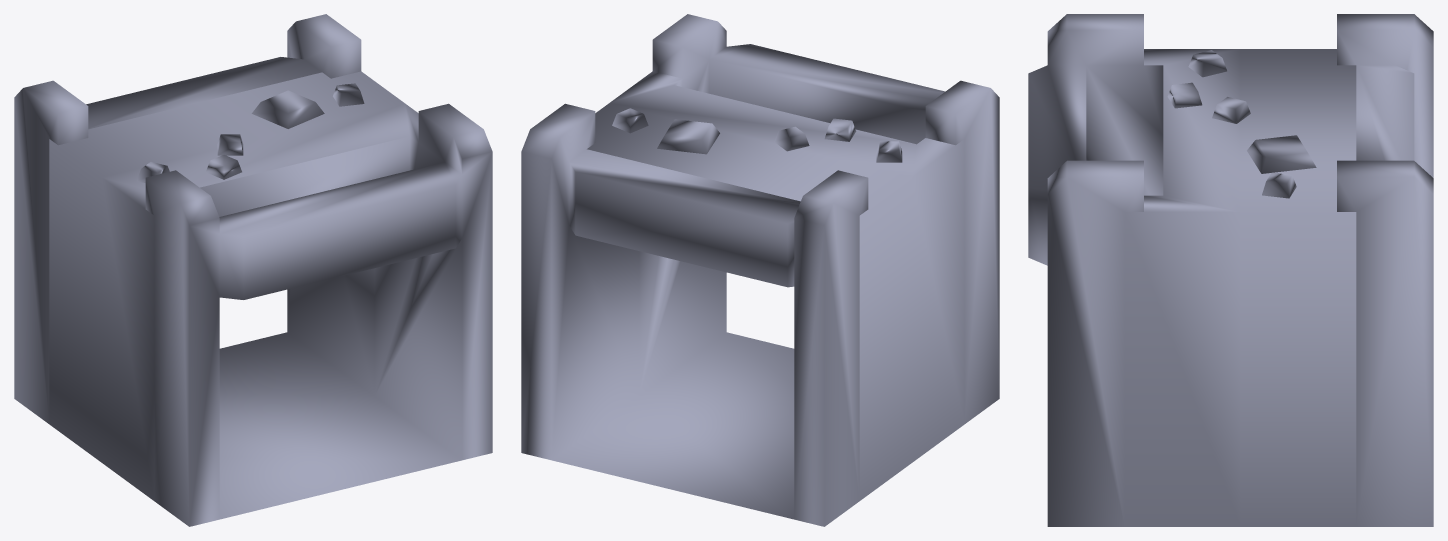
Rendered from kenney_mini-dungeon__wall-opening.fbx.
3 views of the same model, side by side, from view 1: azimuth 30°, elevation 25°; view 2: azimuth 150°, elevation 25°; view 3: azimuth 270°, elevation 25° (orthographic). The views are drawn at different scales.
Parts seen in each view (by area): view 1: kenney_mini-dungeon__wall-opening__cave_stone; view 2: kenney_mini-dungeon__wall-opening__cave_stone; view 3: kenney_mini-dungeon__wall-opening__cave_stone.
Boxes of the visible parts, bbox=[...] form: kenney_mini-dungeon__wall-opening__cave_stone: bbox=[14, 14, 492, 526]; kenney_mini-dungeon__wall-opening__cave_stone: bbox=[521, 14, 999, 526]; kenney_mini-dungeon__wall-opening__cave_stone: bbox=[1028, 14, 1433, 526].
Bounding box in the file's own units: 3.57 × 3.57 × 3.75.
